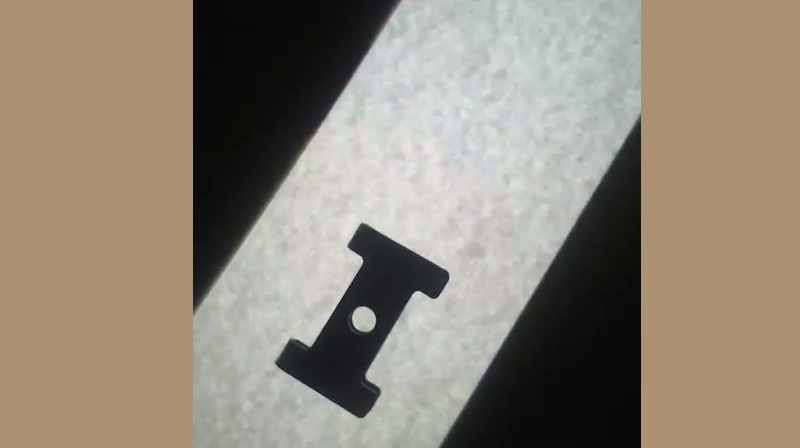O002: (273, 216, 452, 419)
